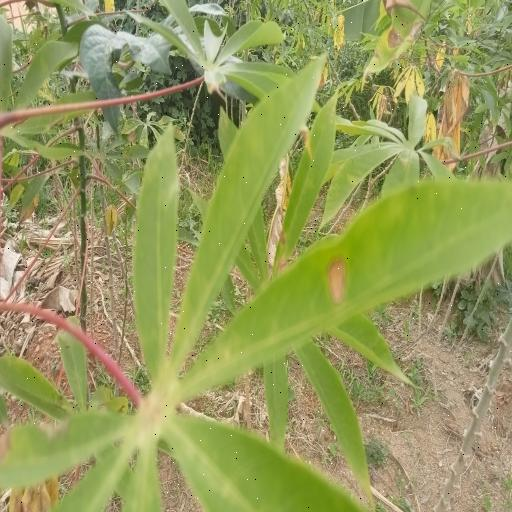Cassava_Brown_Leaf_Spot: (0, 61, 511, 511)
